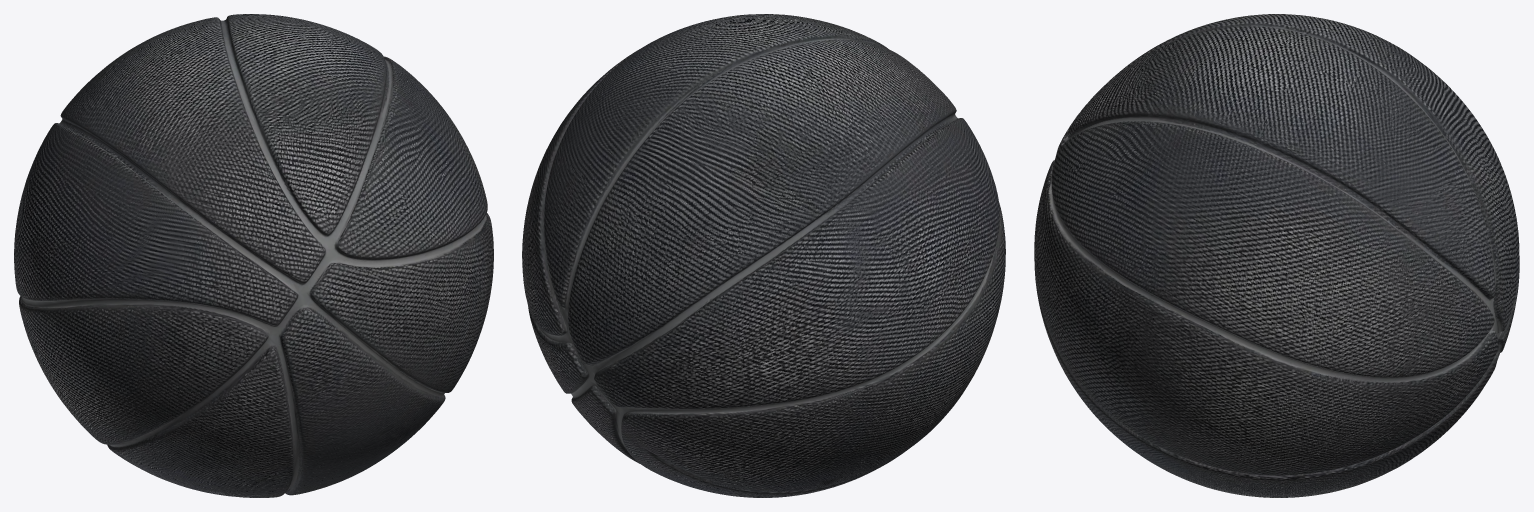
File: palla_nera_compressed.glb
The picture shows the model from 3 angles, left to right: view 1: azimuth 30°, elevation 25°; view 2: azimuth 150°, elevation 25°; view 3: azimuth 270°, elevation 25°; orthographic projection.
Parts seen in each view (by area): view 1: node_0; view 2: node_0; view 3: node_0.
Boxes of the visible parts, x1=… form: node_0: x1=14, y1=14, x2=493, y2=497; node_0: x1=522, y1=14, x2=1005, y2=497; node_0: x1=1034, y1=14, x2=1519, y2=497.
Bounding box in the file's own units: 1.18 × 1.19 × 1.19.
Materials: 1 (1 with a texture image).
